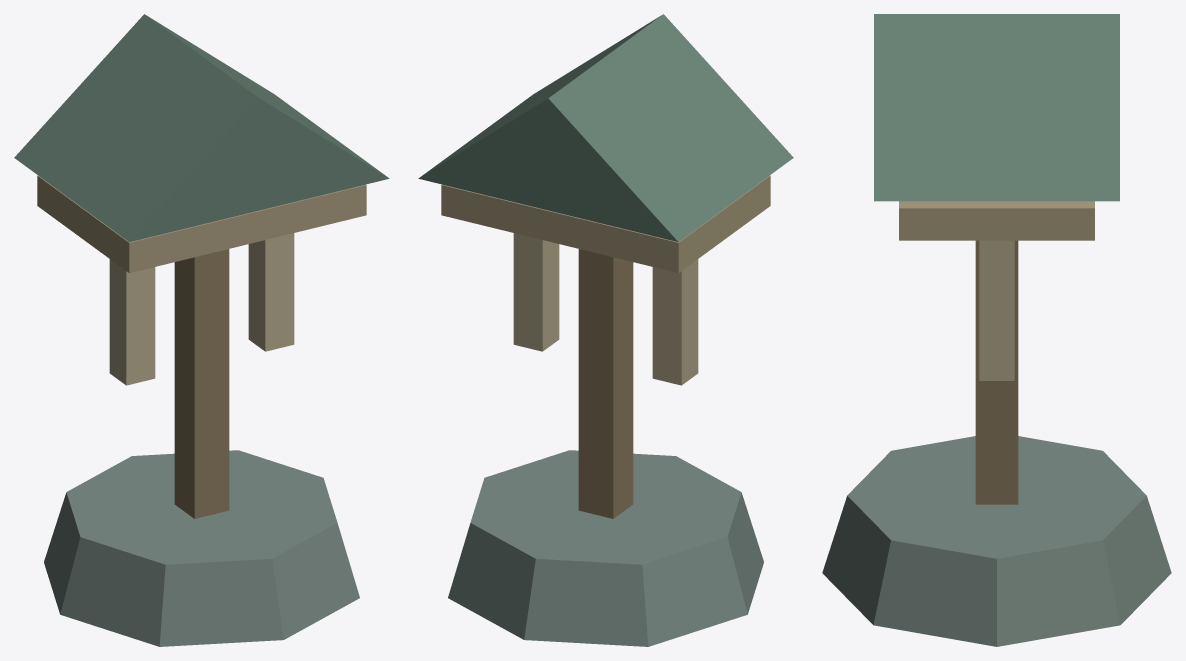
Rendered from map-exclusive-v3__ridge_12.glb.
3 renders of one model, left to right at view 1: azimuth 30°, elevation 25°; view 2: azimuth 150°, elevation 25°; view 3: azimuth 270°, elevation 25°, orthographic. The views are drawn at different scales.
Visible parts, largest first — view 1: ridge_12; view 2: ridge_12; view 3: ridge_12.
Part boxes in pixels (x1,y1,x2,y2): ridge_12: [14, 14, 389, 646]; ridge_12: [418, 14, 793, 646]; ridge_12: [822, 14, 1171, 646].
Bounding box in the file's own units: 0.98 × 1.73 × 0.98.
